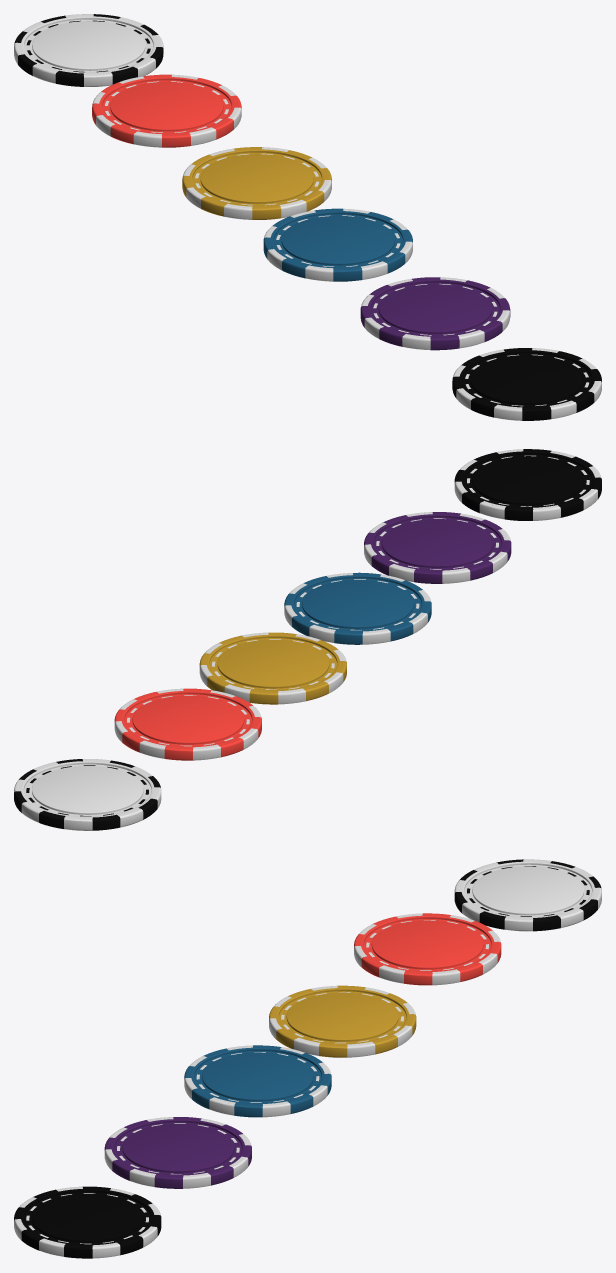
The model's file is Chips.fbx.
3 renders of one model, top to bottom at view 1: azimuth 30°, elevation 25°; view 2: azimuth 150°, elevation 25°; view 3: azimuth 330°, elevation 25°, orthographic.
Visible parts, largest first — view 1: BLUE50, PURPLE100, RED10, BLACK500, YELLOW25, WHITE5; view 2: RED10, WHITE5, BLACK500, BLUE50, PURPLE100, YELLOW25; view 3: BLUE50, BLACK500, RED10, WHITE5, YELLOW25, PURPLE100.
Part boxes in pixels (x1=…): BLUE50: x1=263, y1=208, x2=412, y2=281; PURPLE100: x1=360, y1=277, x2=510, y2=350; RED10: x1=92, y1=74, x2=241, y2=147; BLACK500: x1=452, y1=348, x2=601, y2=420; YELLOW25: x1=182, y1=147, x2=331, y2=219; WHITE5: x1=14, y1=14, x2=163, y2=86; RED10: x1=114, y1=688, x2=261, y2=760; WHITE5: x1=14, y1=759, x2=161, y2=830; BLACK500: x1=454, y1=449, x2=601, y2=520; BLUE50: x1=284, y1=572, x2=431, y2=644; PURPLE100: x1=364, y1=512, x2=511, y2=583; YELLOW25: x1=199, y1=632, x2=346, y2=704; BLUE50: x1=184, y1=1045, x2=331, y2=1117; BLACK500: x1=14, y1=1186, x2=161, y2=1258; RED10: x1=354, y1=913, x2=501, y2=985; WHITE5: x1=454, y1=859, x2=601, y2=931; YELLOW25: x1=269, y1=985, x2=416, y2=1057; PURPLE100: x1=104, y1=1117, x2=251, y2=1188.
Bounding box in the file's own units: 8.78 × 1.68 × 55.49.
